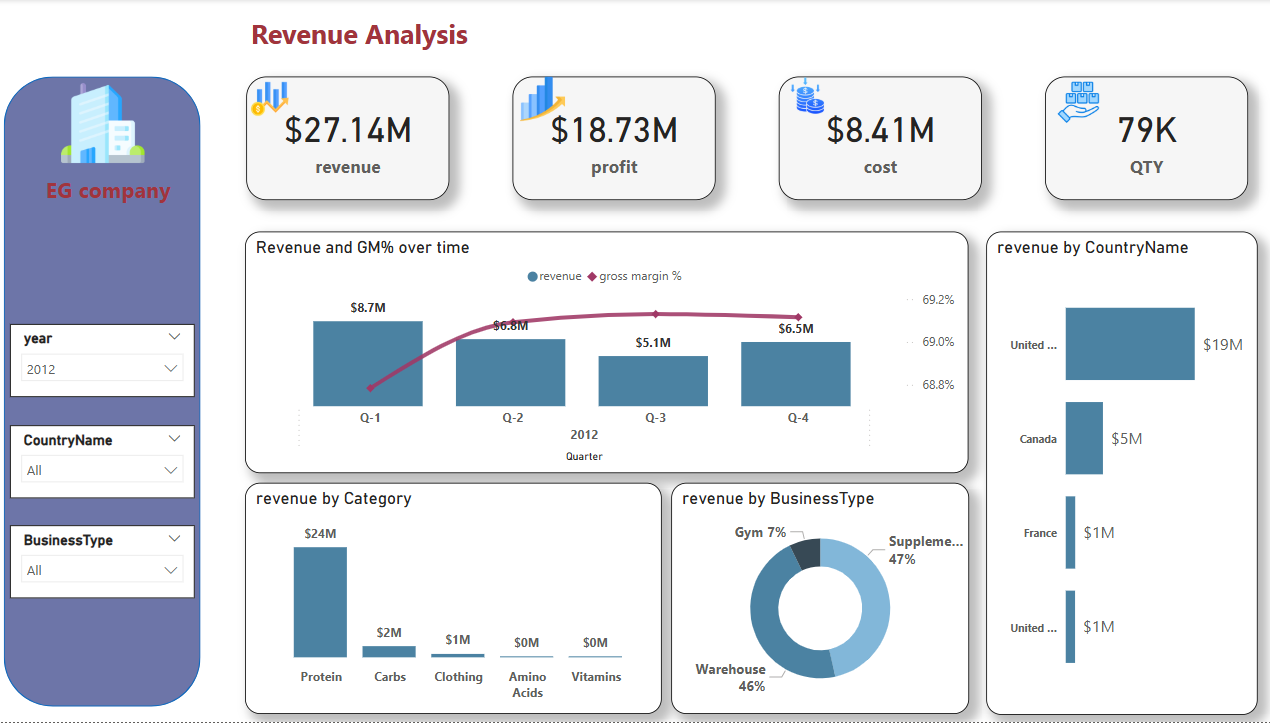

This screenshot's page, from the dashboard's own definition file:
{"tool":"powerbi","page":{"name":"Rev analysis","canvas":[1280,720],"ordinal":0},"visuals":[{"type":"shape","box":[3.7,76.9,196,627.7],"z":0,"group":"g2"},{"type":"card","fields":{"Values":["calculations.qty"]},"box":[1041.2,77.2,202.7,123.1],"z":0,"group":"g1"},{"type":"lineStackedColumnComboChart","title":"Revenue and GM% over time","fields":{"Y":["calculations.revenue"],"Y2":["calculations.gross margin"],"Category":["calendar.year","calendar.Quarter"]},"box":[244.4,232,720.8,240.7],"z":0},{"type":"slicer","fields":{"Values":["calendar.year"]},"box":[9.9,323.8,183.6,73.2],"z":0,"group":"g3"},{"type":"image","box":[22.3,76.9,160,93],"z":1000,"group":"g2"},{"type":"card","fields":{"Values":["calculations.revenue"]},"box":[244.9,77.2,202.7,123.1],"z":1000,"group":"g1"},{"type":"slicer","fields":{"Values":["customers.CountryName"]},"box":[9.9,424.3,183.6,73.2],"z":1000,"group":"g3"},{"type":"columnChart","title":"revenue by Category","fields":{"Y":["calculations.revenue"],"Category":["product.CategoryName"]},"box":[244.4,482.6,415.6,230.7],"z":1000},{"type":"card","fields":{"Values":["calculations.profit"]},"box":[510.3,77.2,202.7,123.1],"z":2000,"group":"g1"},{"type":"textbox","box":[16.1,169.9,183.6,89.3],"z":2000,"group":"g2"},{"type":"donutChart","fields":{"Y":["calculations.revenue"],"Category":["customers.BusinessType"]},"box":[668.7,482.6,296.5,230.7],"z":2000},{"type":"slicer","fields":{"Values":["customers.BusinessType"]},"box":[9.9,524.8,183.6,73.2],"z":2000,"group":"g3"},{"type":"card","fields":{"Values":["calculations.cost"]},"box":[775.7,77.2,202.7,123.1],"z":3000,"group":"g1"},{"type":"clusteredBarChart","fields":{"Y":["calculations.revenue"],"Category":["customers.CountryName"]},"box":[982.5,232,270.4,481.3],"z":3000},{"type":"group","id":"g1","title":"Group 1","box":[244.9,77.2,998.9,123.1],"z":4000},{"type":"textbox","box":[167.5,11.2,382.1,49.6],"z":5000},{"type":"group","id":"g2","title":"Group 2","box":[3.7,76.9,196,627.7],"z":6000},{"type":"group","id":"g3","title":"Group 3","box":[9.9,323.8,183.6,274.2],"z":7000},{"type":"image","box":[231.6,76,74.7,47.3],"z":8000},{"type":"image","box":[498.2,72.2,84.7,54.8],"z":9000},{"type":"image","box":[763.4,72.2,80.9,48.6],"z":10000},{"type":"image","box":[1031.2,77.2,87.2,51.1],"z":11000}]}

Visuals, with their boxes in screenshot pixels (x1, y1, x2, y2), scaled from the page's 1280x720 canvas onto the 1270x723 screenshot:
shape: bbox=(4, 77, 198, 708)
card - calculations.qty: bbox=(1033, 78, 1234, 201)
"Revenue and GM% over time" lineStackedColumnComboChart: bbox=(242, 233, 958, 475)
slicer - calendar.year: bbox=(10, 325, 192, 399)
image: bbox=(22, 77, 181, 171)
card - calculations.revenue: bbox=(243, 78, 444, 201)
slicer - customers.CountryName: bbox=(10, 426, 192, 500)
"revenue by Category" columnChart: bbox=(242, 485, 655, 716)
card - calculations.profit: bbox=(506, 78, 707, 201)
textbox: bbox=(16, 171, 198, 260)
donutChart - calculations.revenue x customers.BusinessType: bbox=(663, 485, 958, 716)
slicer - customers.BusinessType: bbox=(10, 527, 192, 600)
card - calculations.cost: bbox=(770, 78, 971, 201)
clusteredBarChart - calculations.revenue x customers.CountryName: bbox=(975, 233, 1243, 716)
"Group 1" group: bbox=(243, 78, 1234, 201)
textbox: bbox=(166, 11, 545, 61)
"Group 2" group: bbox=(4, 77, 198, 708)
"Group 3" group: bbox=(10, 325, 192, 600)
image: bbox=(230, 76, 304, 124)
image: bbox=(494, 73, 578, 128)
image: bbox=(757, 73, 838, 121)
image: bbox=(1023, 78, 1110, 129)
